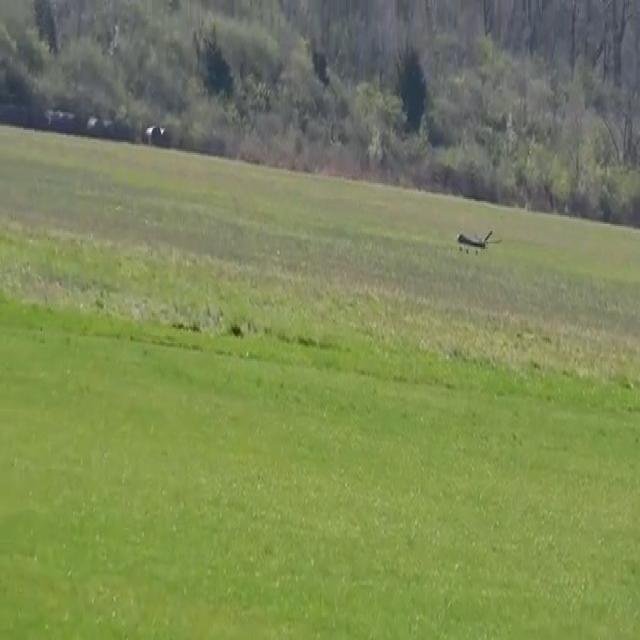iha: (450, 230, 499, 249)
